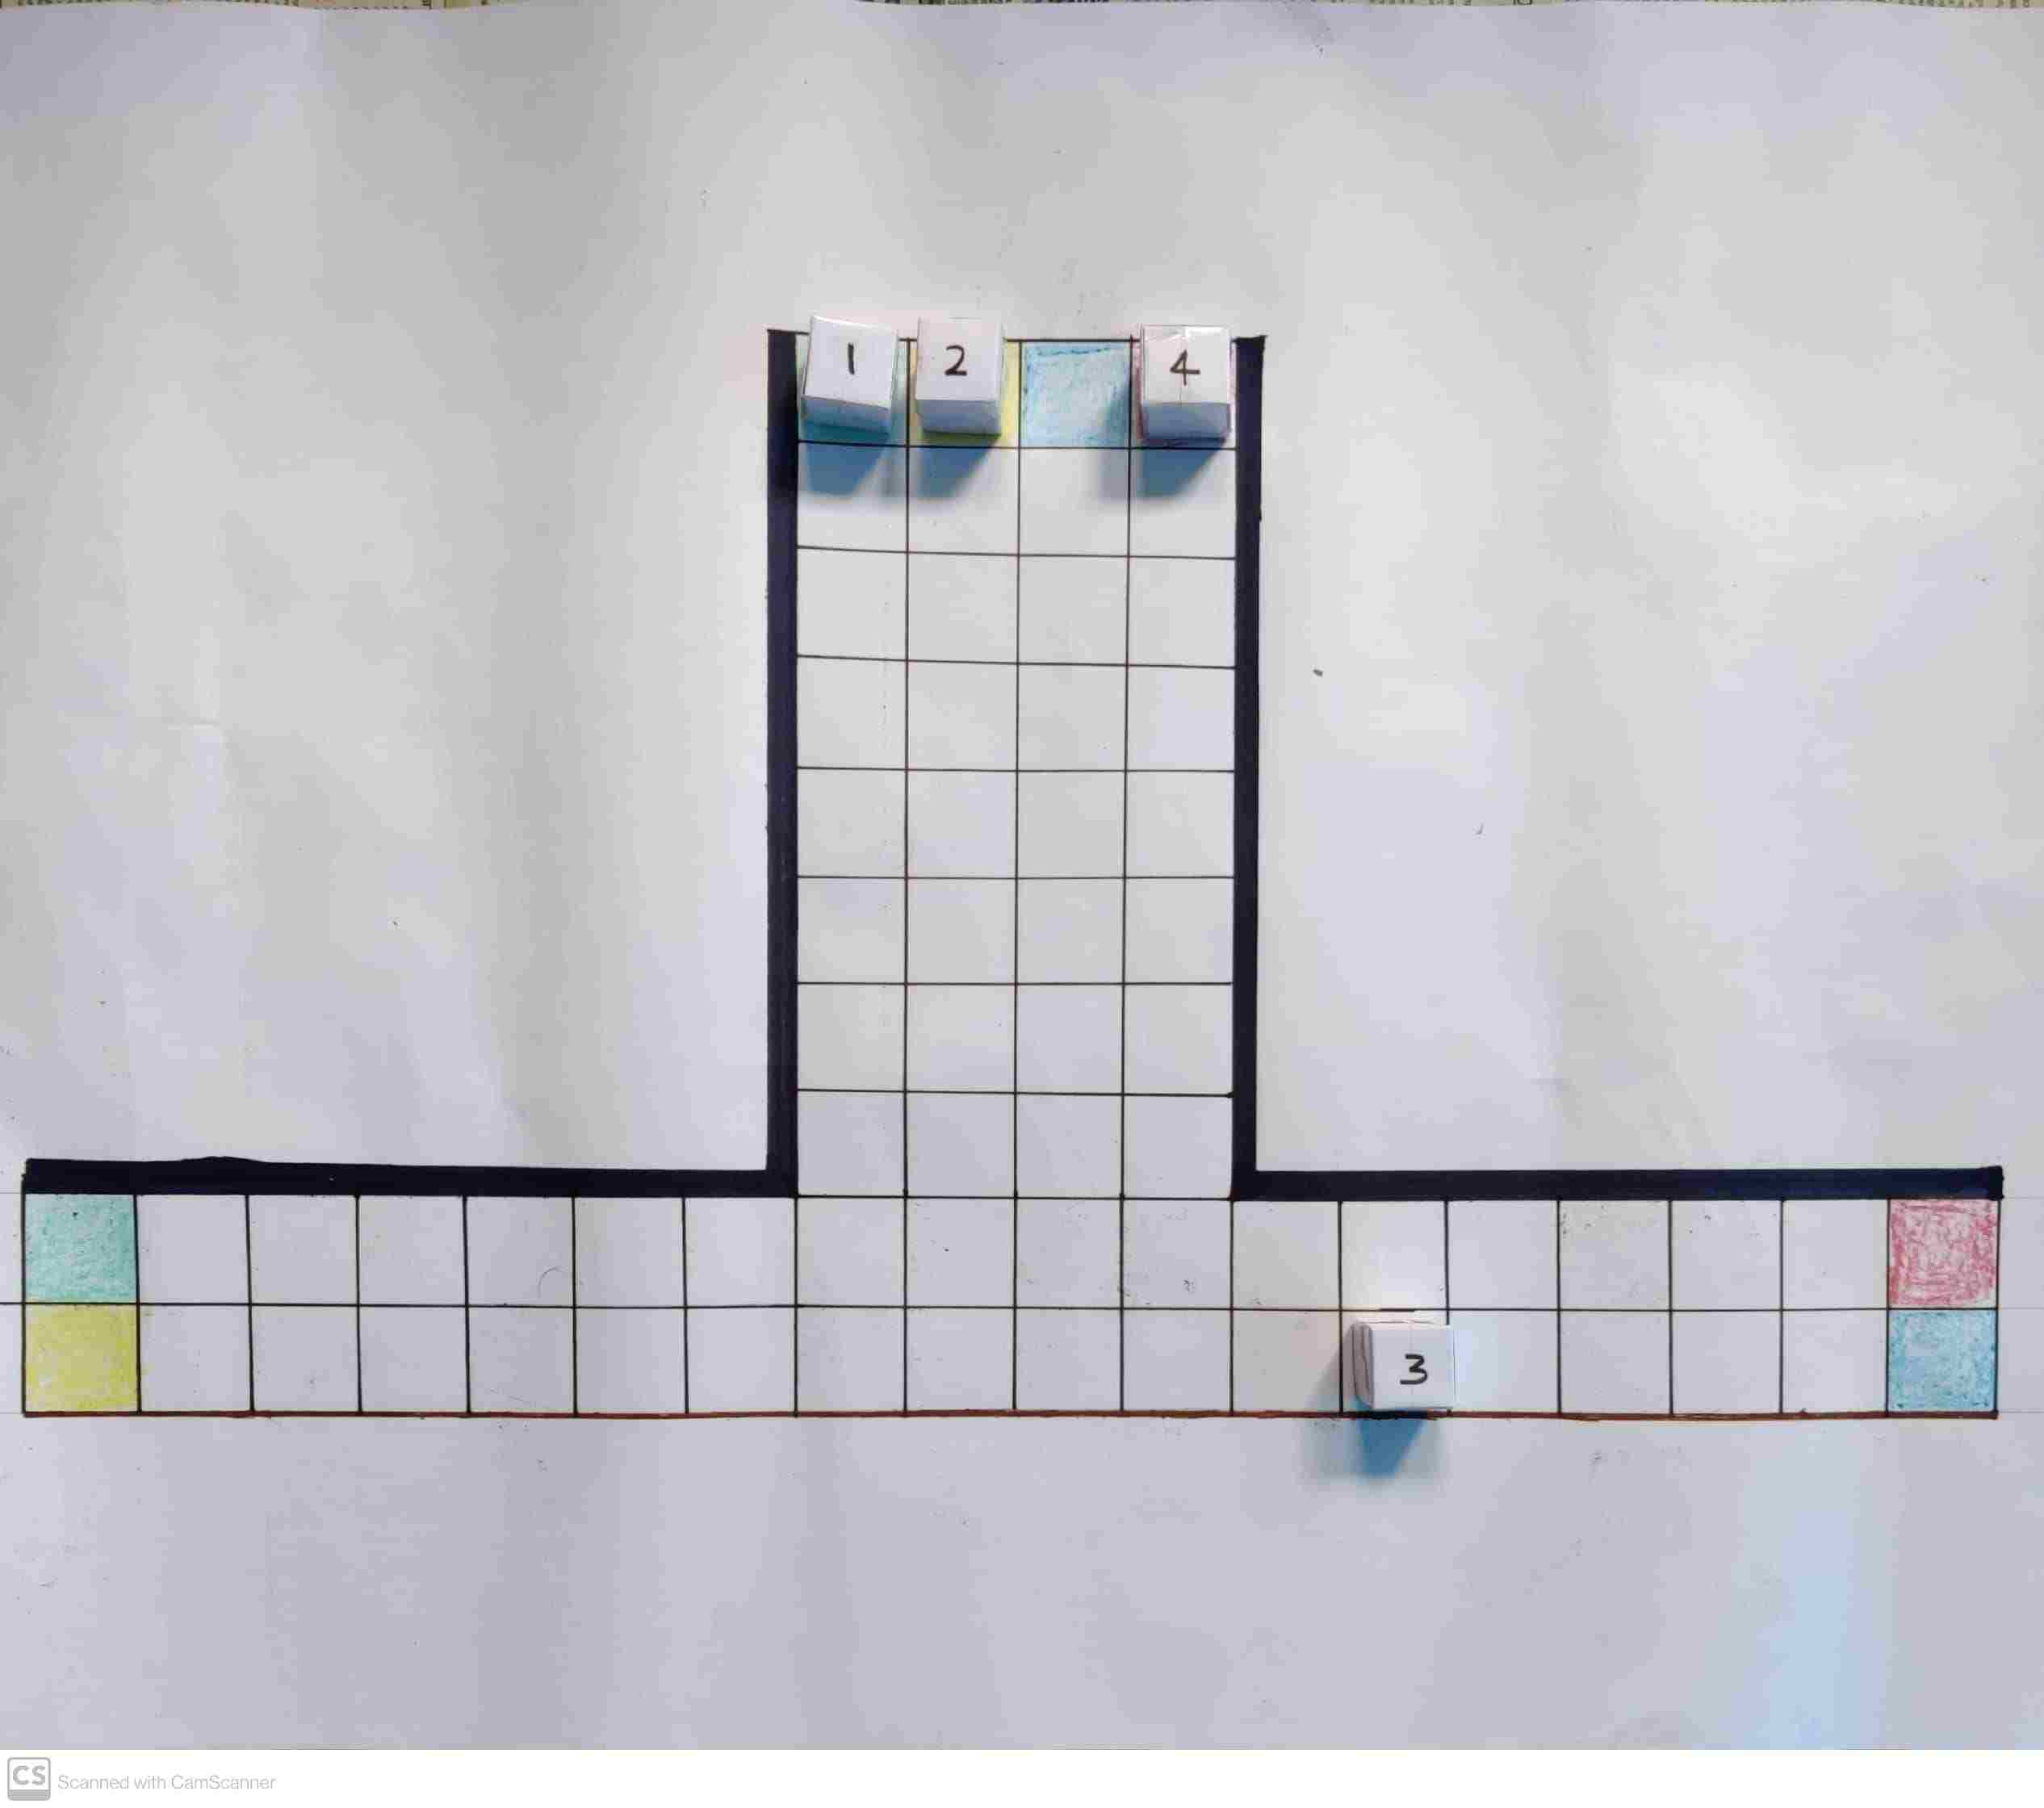arena: (26, 330, 2000, 1410)
bot: (1368, 1325, 1452, 1414), (810, 316, 894, 401), (920, 321, 1004, 405), (1142, 326, 1227, 405)
